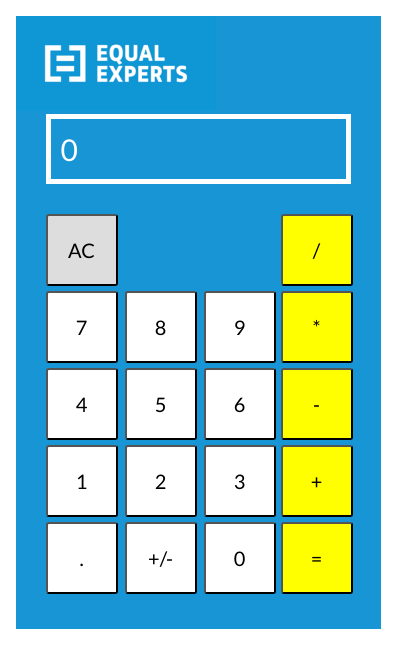
it: 0 should be removed from the start of integers
Expected: the message reads "0", [60, 131, 78, 167]
Click the button "1" at (82, 481), box [46, 445, 118, 517]
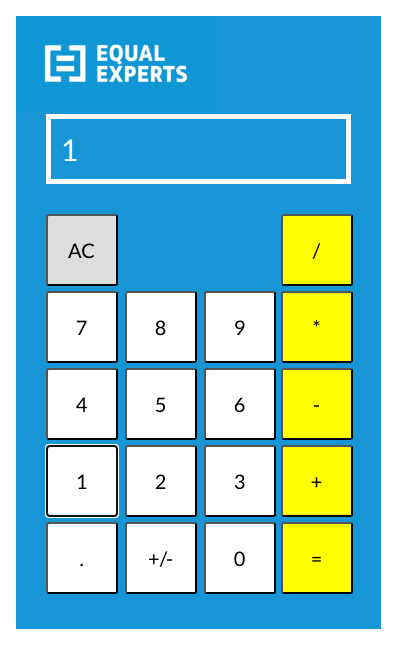
Expected: the message reads "1", [60, 131, 78, 167]
